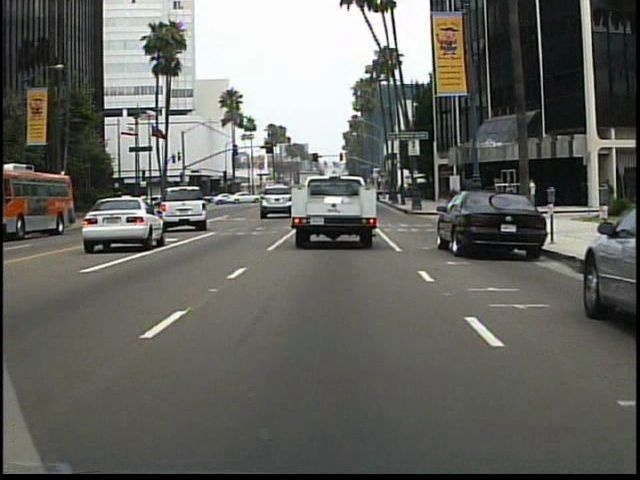person: (529, 177, 539, 197)
